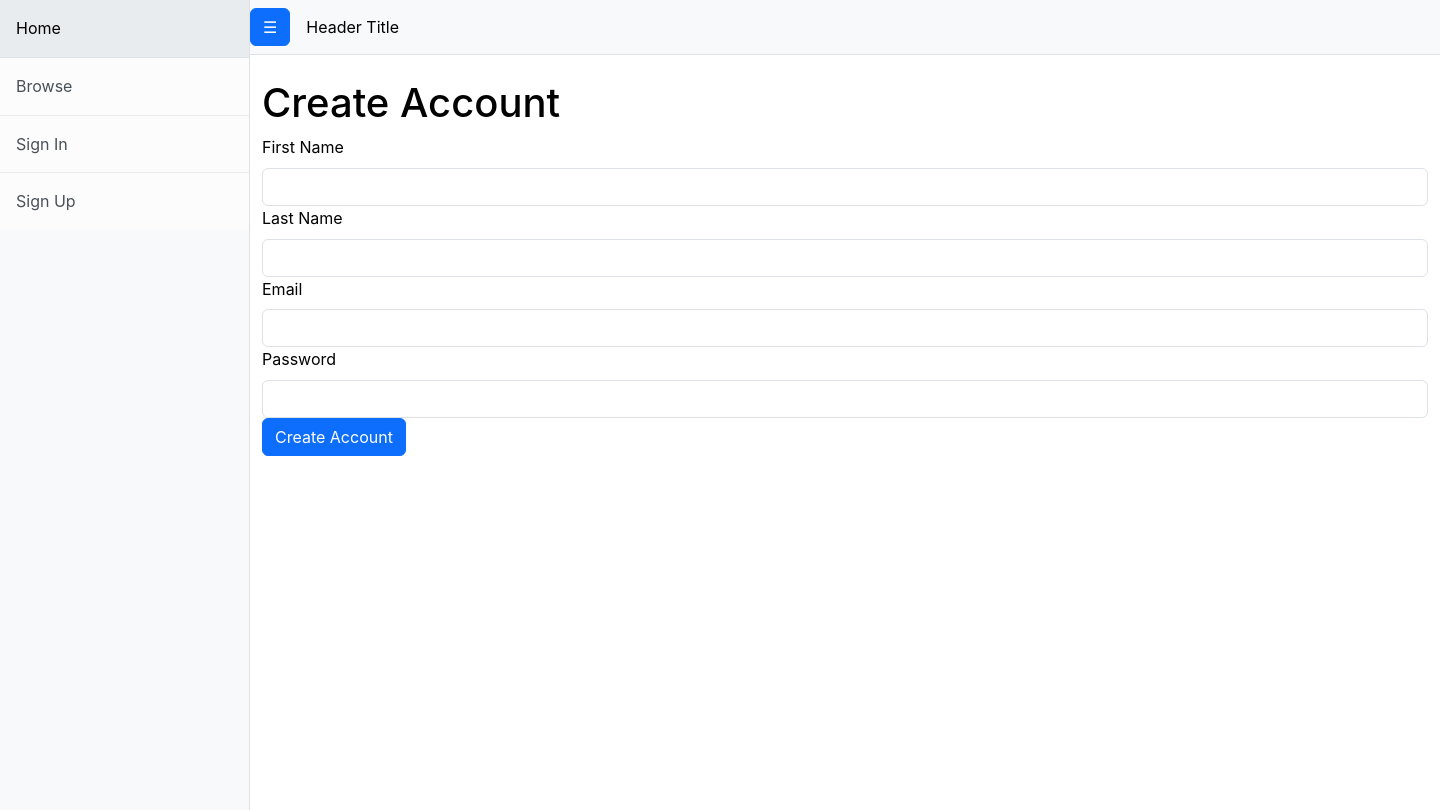
Test case: SignUp › shows validation error for invalid email
Type "invalid-email" into the field labelled "Email" at [845, 328], box [262,309,1428,347]
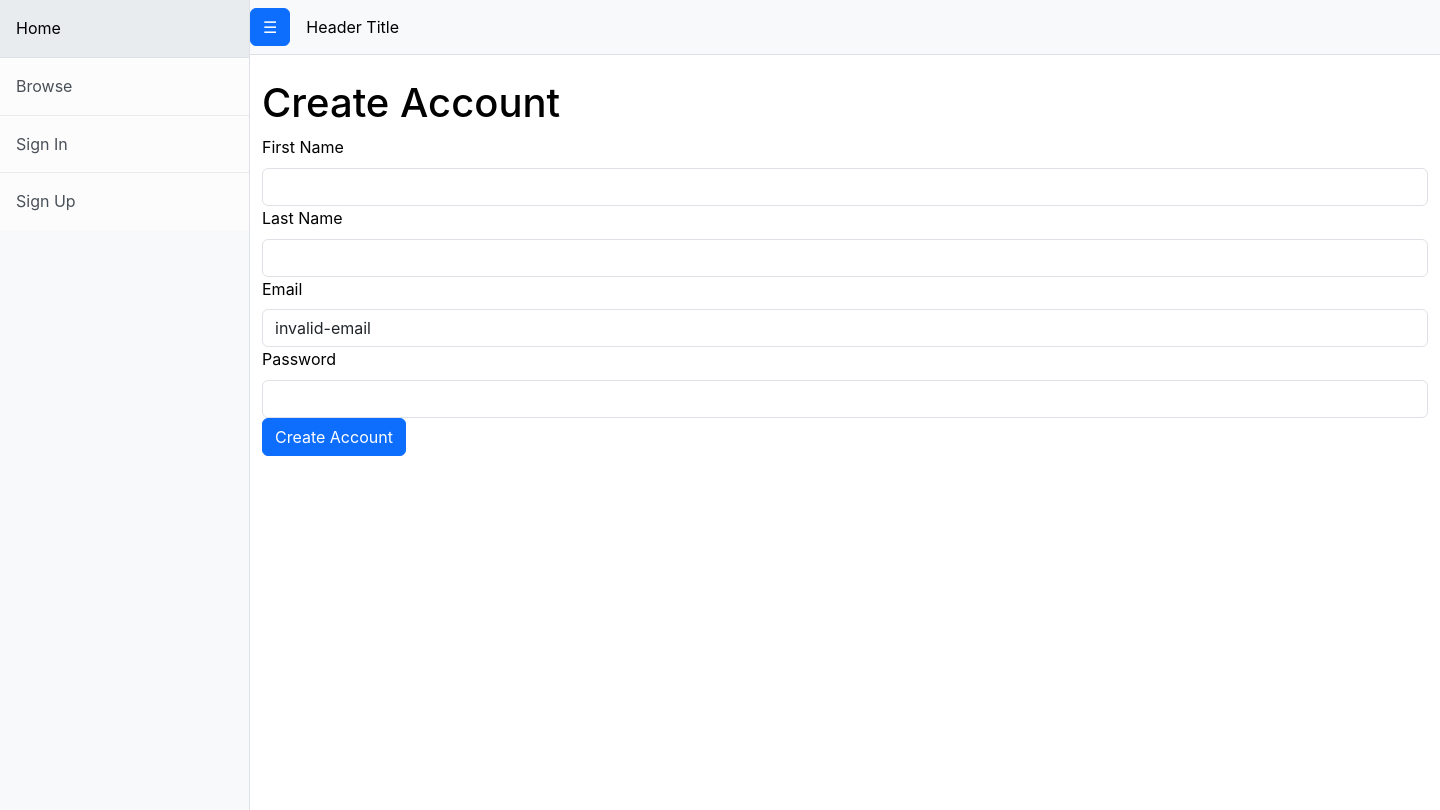
Submit the form, box [262,135,1428,456]
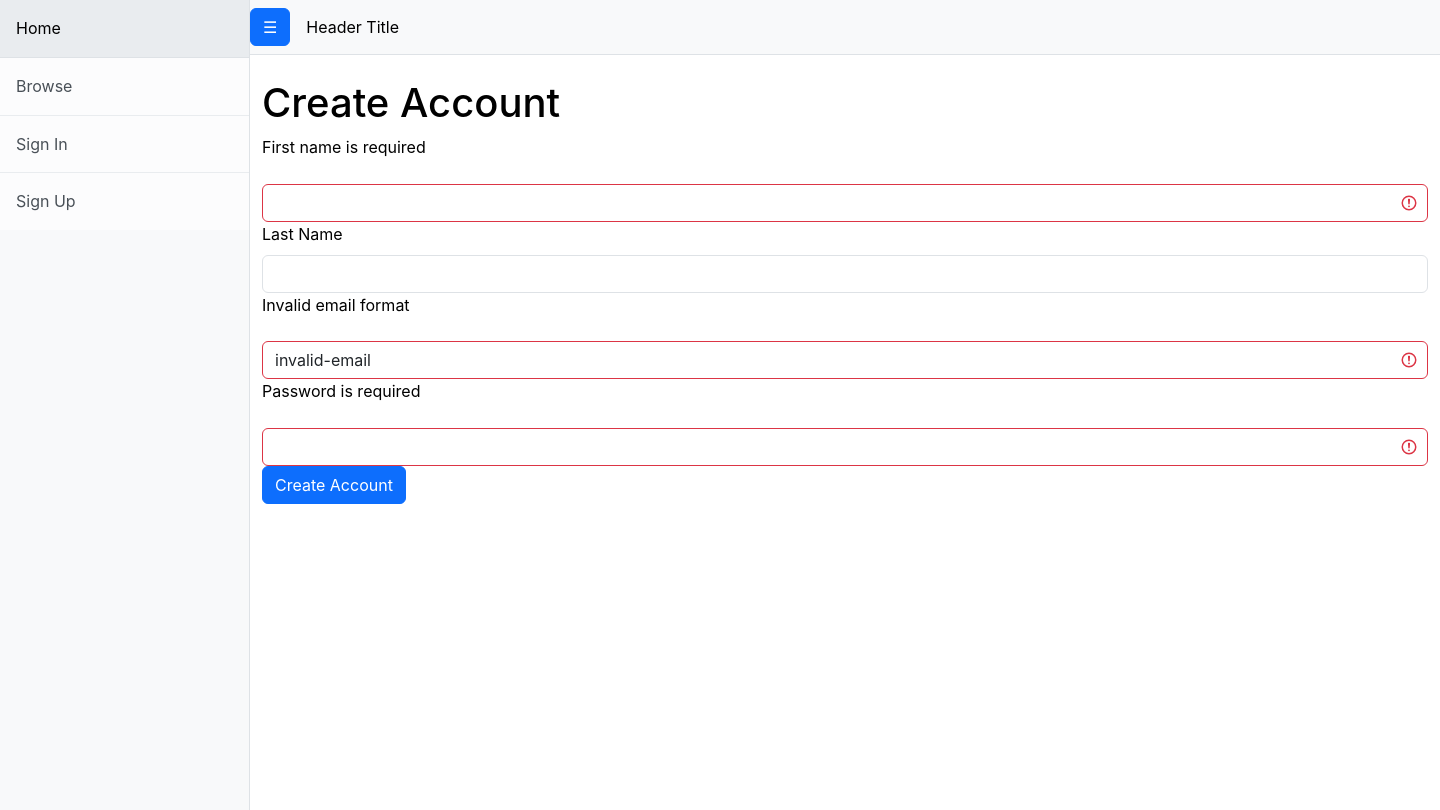
Now the text "Invalid email format" is shown, box [262,293,410,317]
